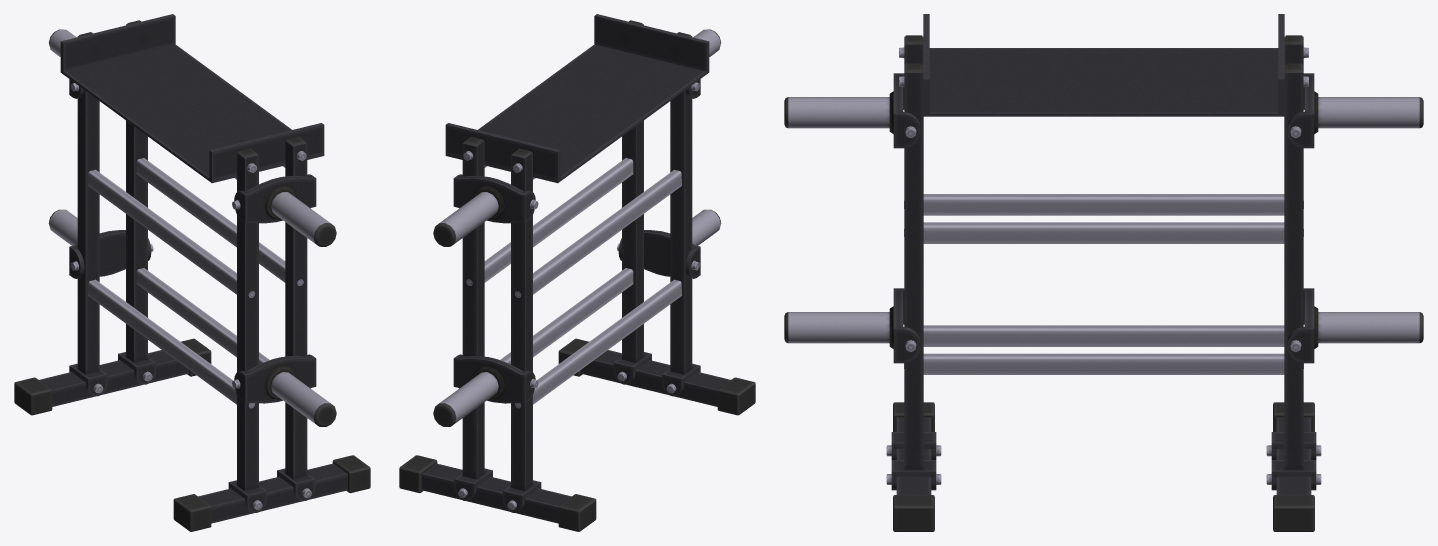
The model's file is MSH_Rack_01.FBX.
3 renders of one model, left to right at view 1: azimuth 30°, elevation 25°; view 2: azimuth 150°, elevation 25°; view 3: azimuth 270°, elevation 25°, orthographic. The views are drawn at different scales.
Parts seen in each view (by area): view 1: MSH_Rack_01; view 2: MSH_Rack_01; view 3: MSH_Rack_01.
Boxes of the visible parts, bbox=[...] form: MSH_Rack_01: bbox=[14, 14, 370, 531]; MSH_Rack_01: bbox=[399, 14, 755, 531]; MSH_Rack_01: bbox=[784, 14, 1423, 531].
Size of what is drawn, in the model's own units: 41.79 by 107 by 80.26.
